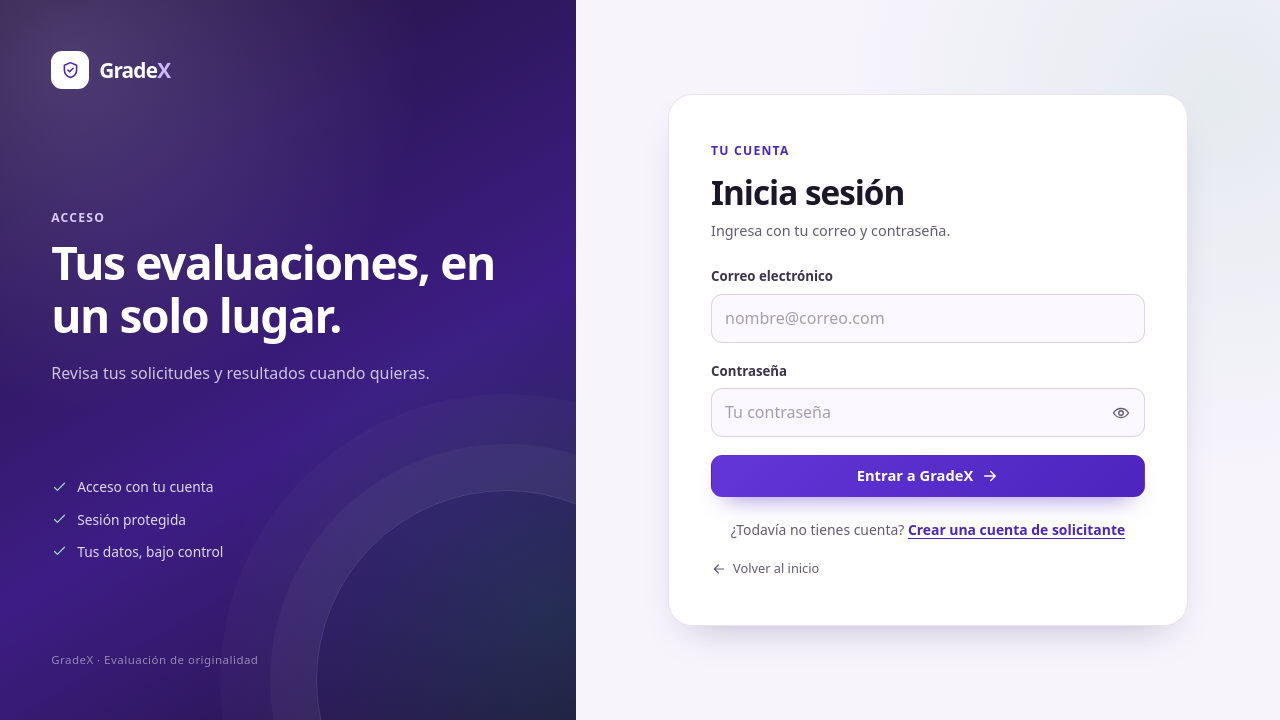
it: LoginPage › valida los campos obligatorios antes de enviar
Click the button "Entrar a GradeX": point(928, 476) x1=711 y1=455 x2=1145 y2=497
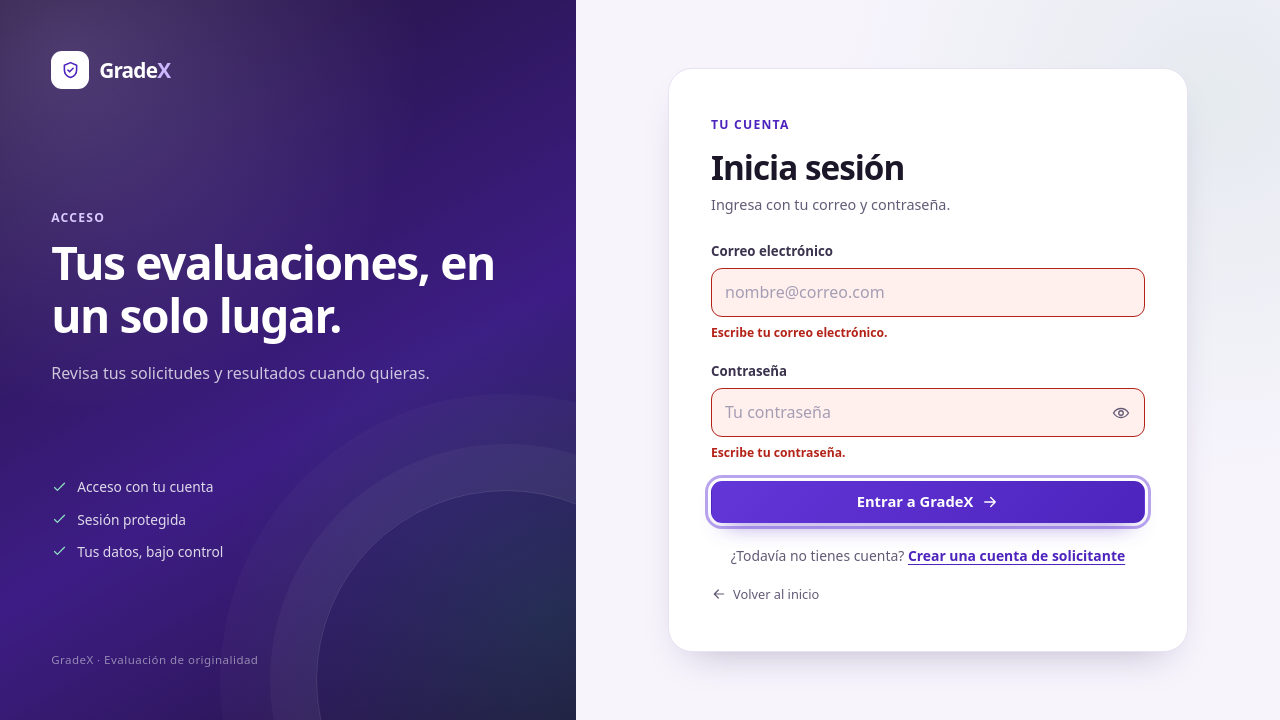
Now the text "Escribe tu correo electrónico." is shown, box x1=711 y1=324 x2=888 y2=341
Now the text "Escribe tu contraseña." is shown, box x1=711 y1=444 x2=846 y2=461
